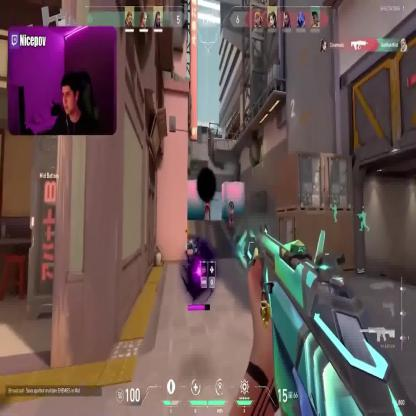enemy: (203, 193, 211, 220), (228, 200, 235, 228)
